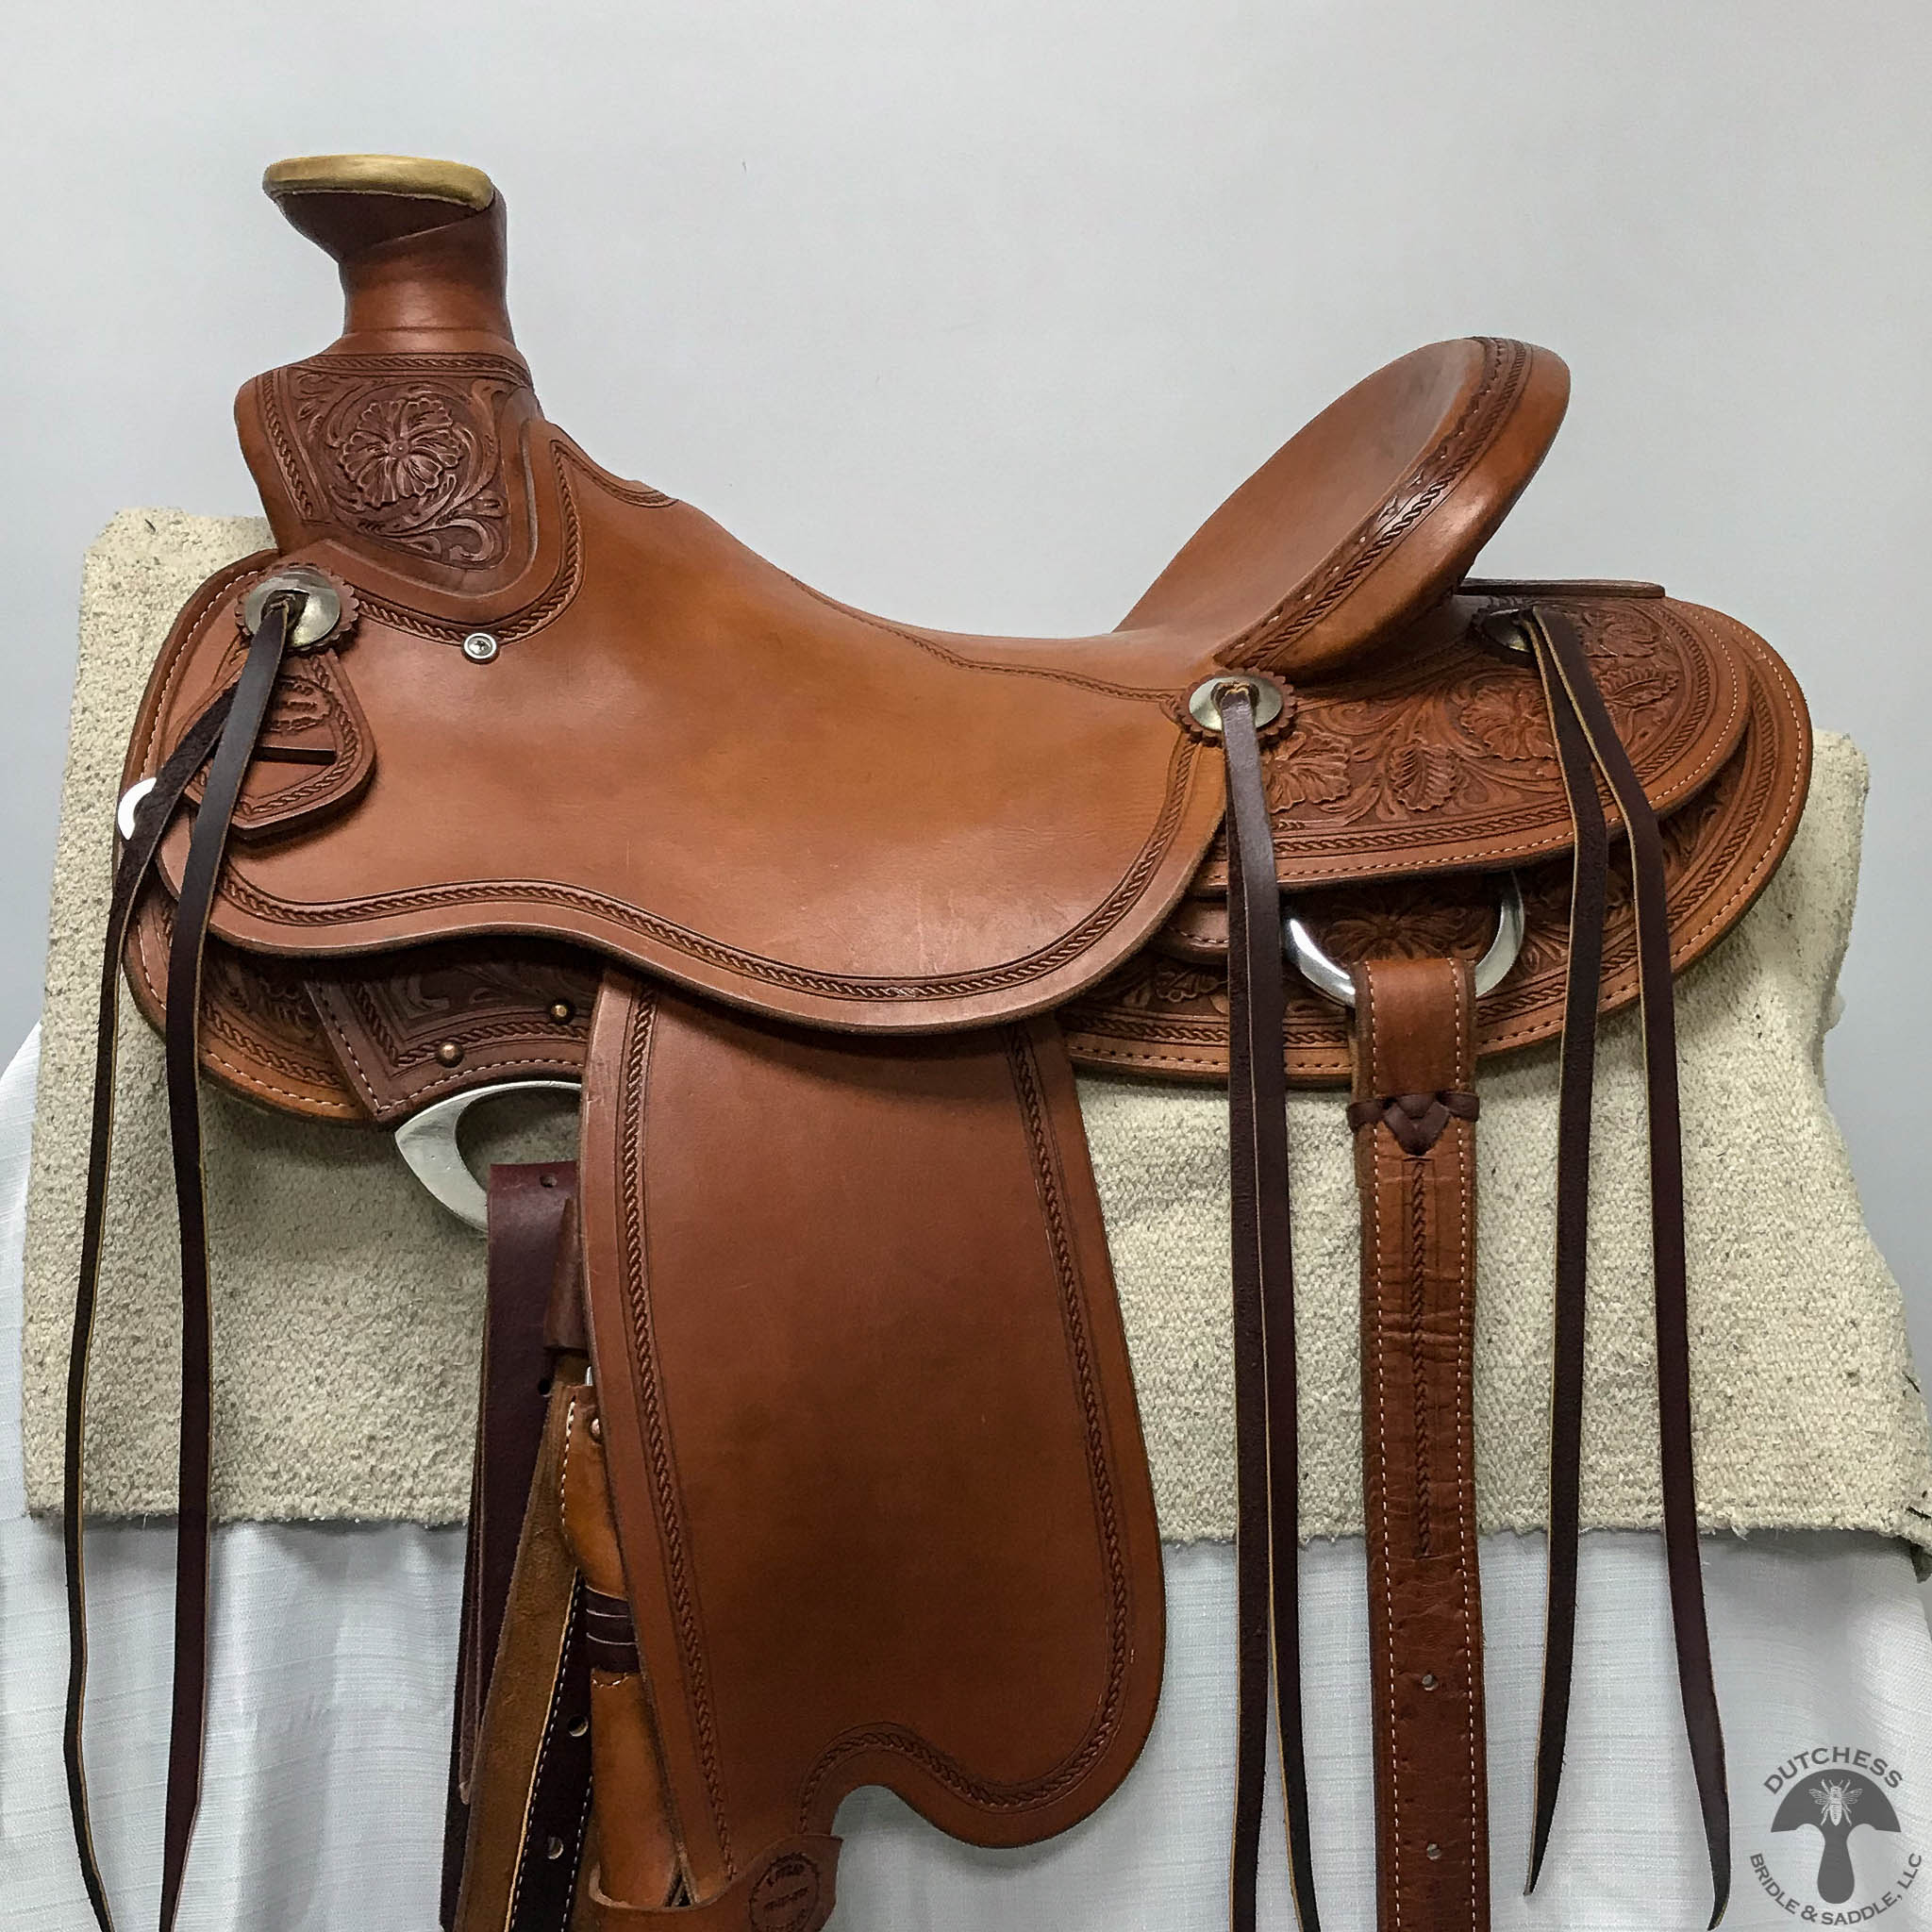saddle: (90, 126, 1736, 1605)
